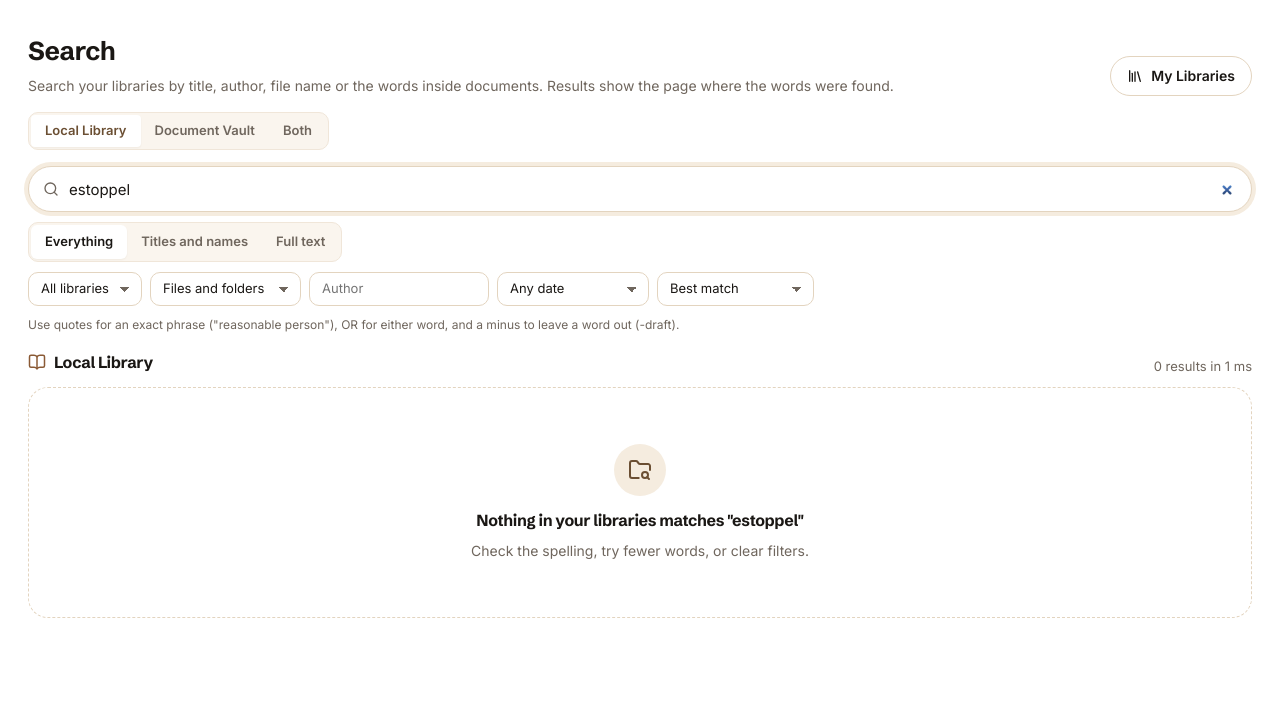
Test case: Search: local libraries › switches to full-text search and explains scanned PDFs when nothing matches
Click the radio button labelled "Full text". click: coordinates (301, 242)
box: [262,225,339,259]
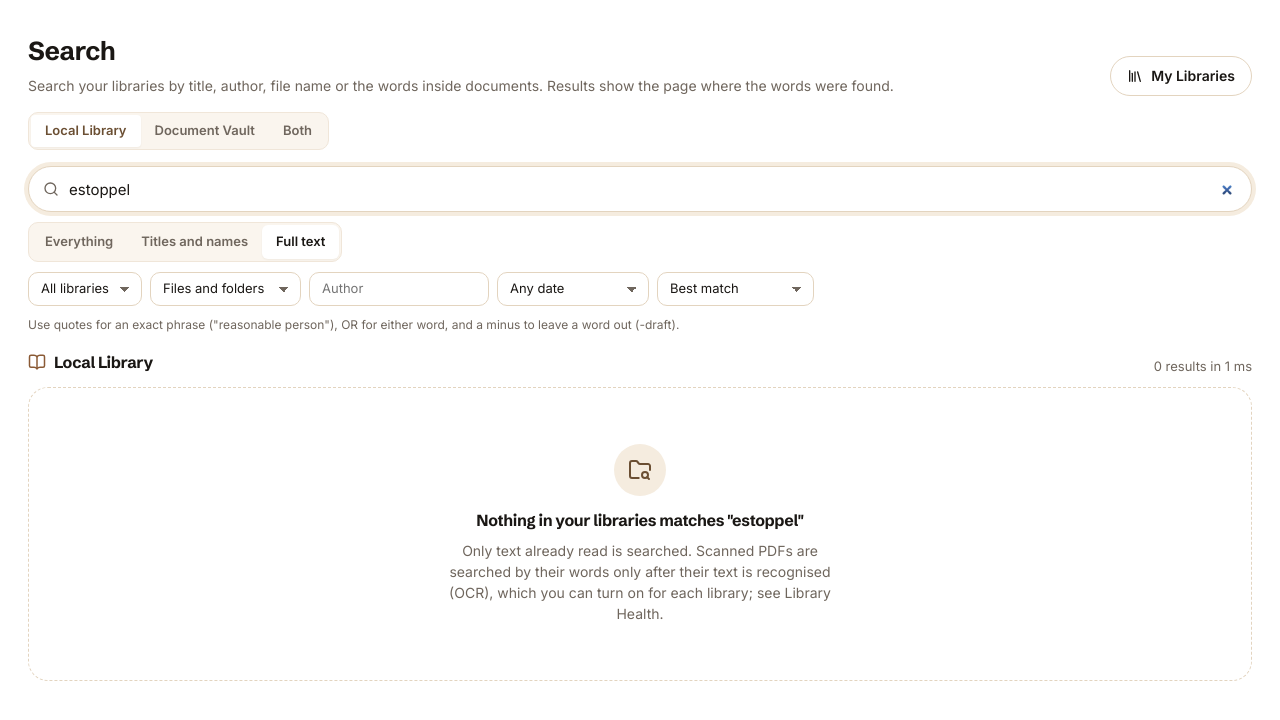
Result: the text "Scanned PDFs are searched by their words only after their text is recognised (OCR)" is shown at [449,542,831,622]
